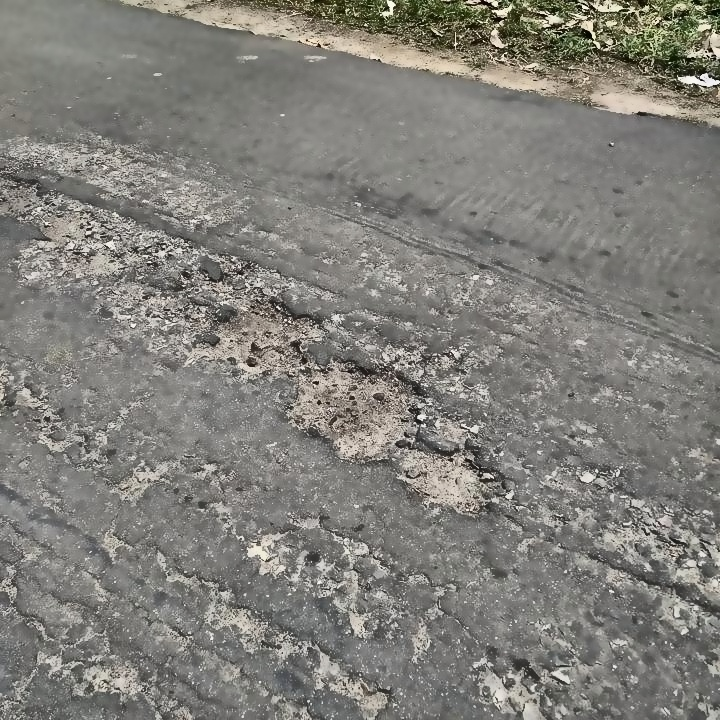pothole: (0, 167, 140, 278), (282, 358, 426, 463), (206, 292, 324, 379), (399, 443, 503, 522)
